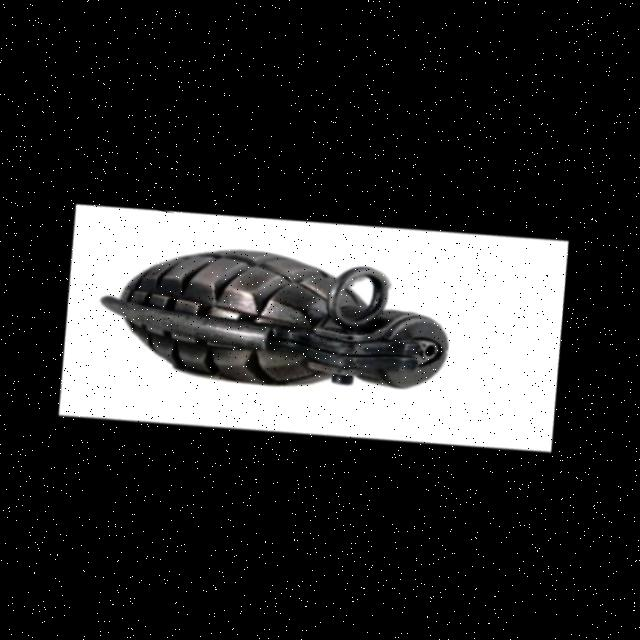grenade: (87, 181, 496, 457)
